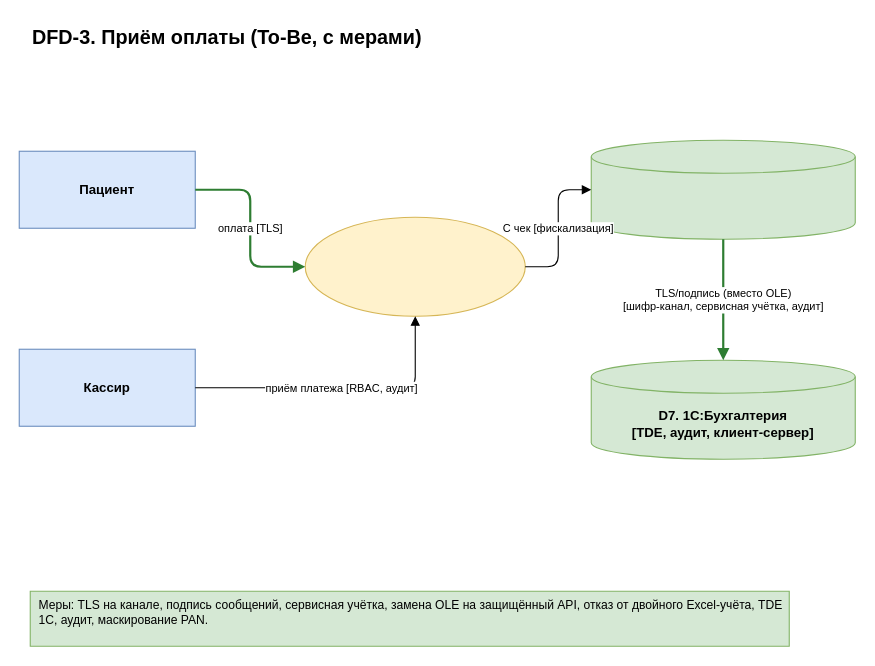
Some shapes in this 875 by 666 pixel diagram are drawn without their labels. Each missing label, with the centre of its shape:
"D6. ККМ [фискализация, TLS]" belongs at pixel 722 189.
"P3. Приём оплаты [аудит, маскирование PAN]" belongs at pixel 414 266.
